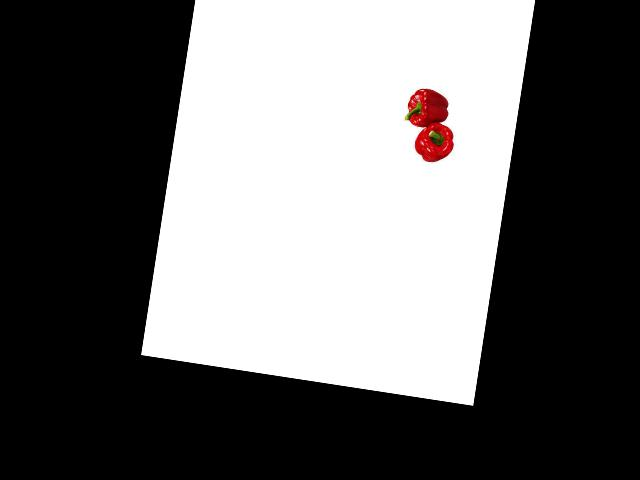bell_pepper: (402, 84, 454, 132)
